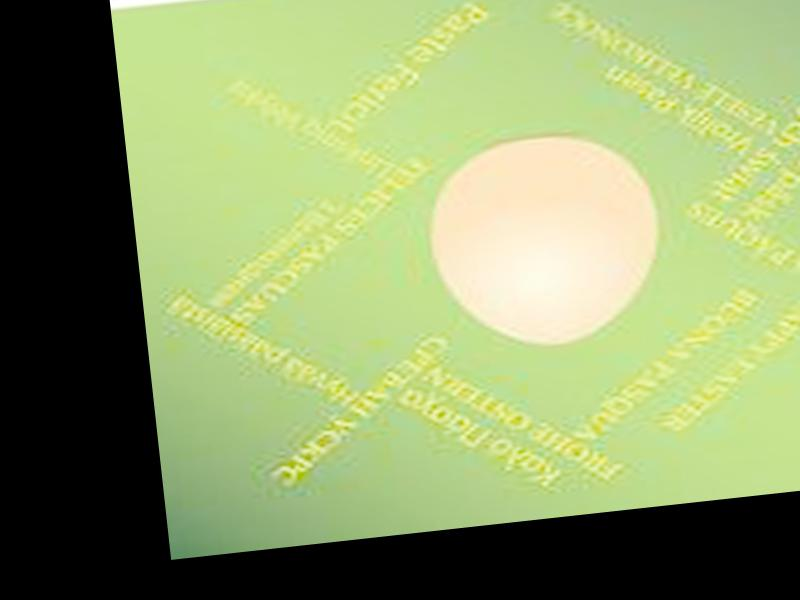Eggs: (425, 126, 668, 355)
